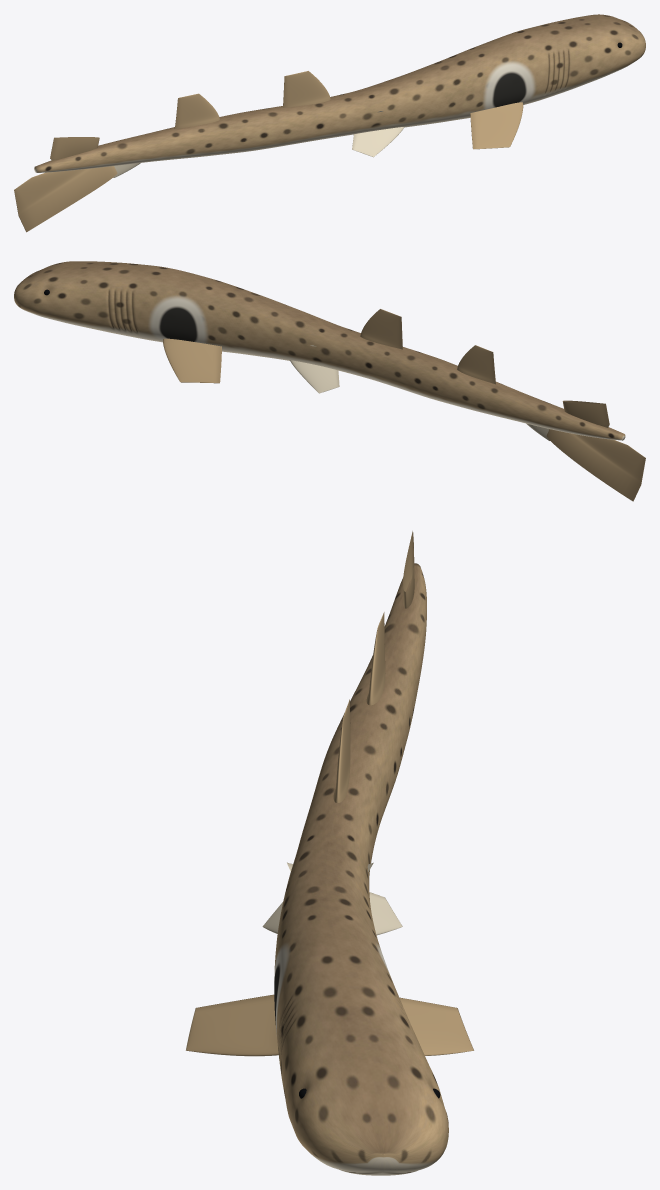
Rendered from epaulette_shark.glb.
3 views of the same model, one above another, from view 1: azimuth 30°, elevation 25°; view 2: azimuth 150°, elevation 25°; view 3: azimuth 270°, elevation 25° (orthographic). The views are drawn at different scales.
Parts seen in each view (by area): view 1: EpauletteShark_Body, EpauletteShark_Fins; view 2: EpauletteShark_Body, EpauletteShark_Fins; view 3: EpauletteShark_Body, EpauletteShark_Fins.
Part boxes in pixels (x1,y1,x2,y2): EpauletteShark_Body: (34, 14, 645, 172); EpauletteShark_Fins: (14, 71, 523, 232); EpauletteShark_Body: (14, 261, 625, 440); EpauletteShark_Fins: (163, 309, 645, 501); EpauletteShark_Body: (274, 563, 448, 1175); EpauletteShark_Fins: (185, 531, 473, 1056).
Bounding box in the file's own units: 0.7 × 0.1195 × 0.1416.
Materials: 3 (1 with a texture image).
